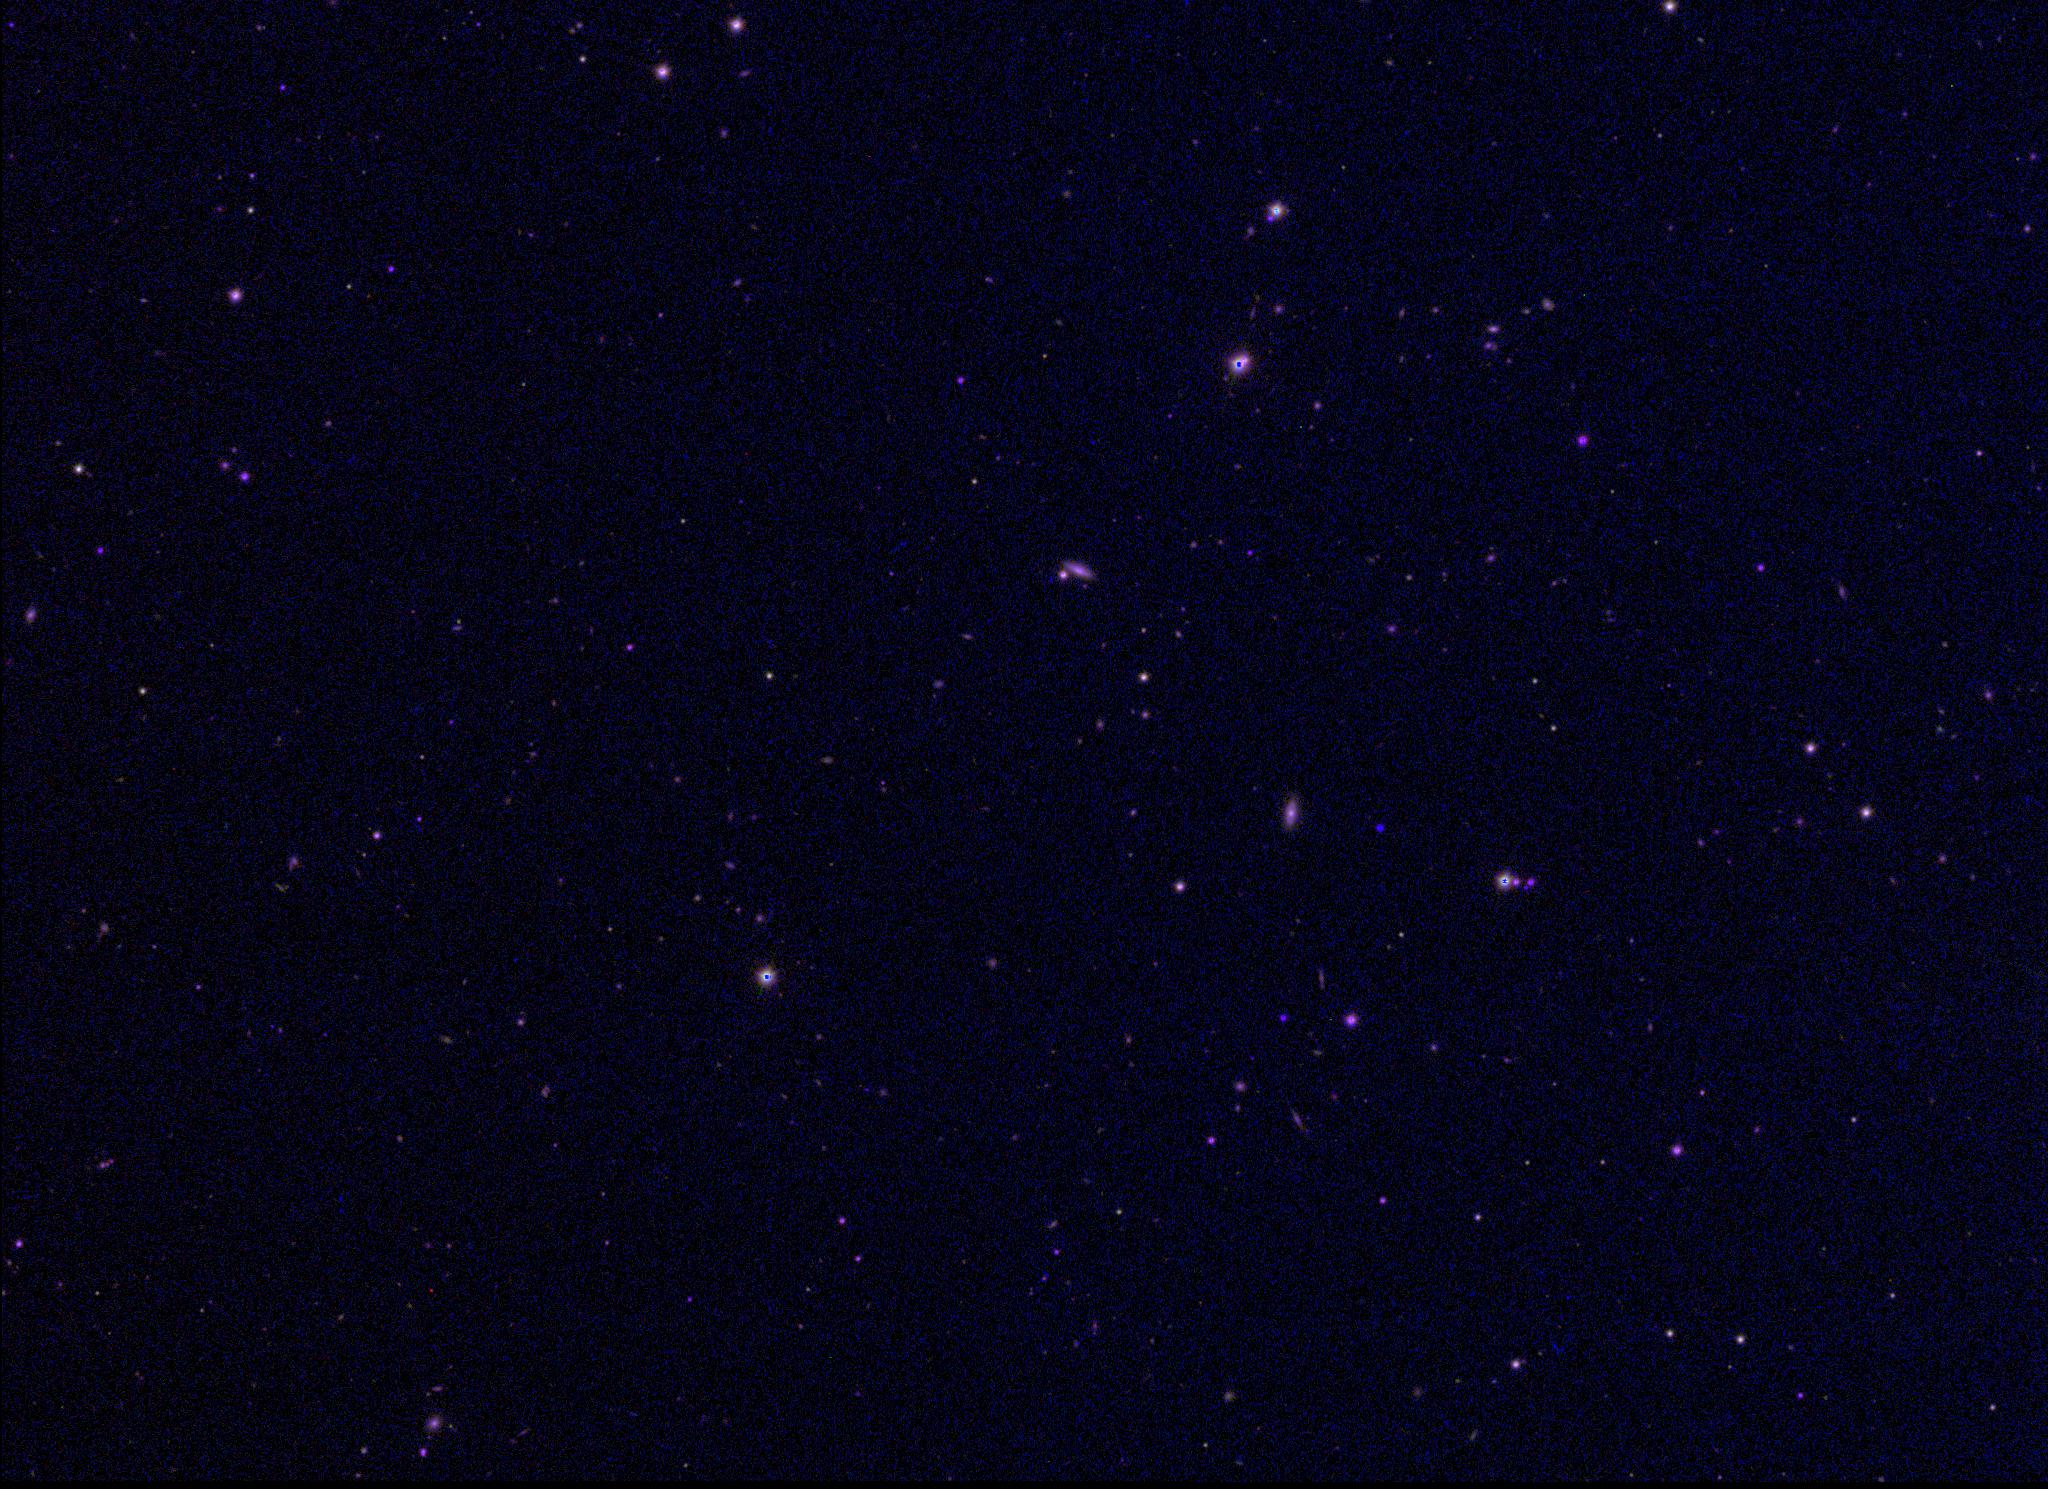L: (1372, 819, 1387, 834)
